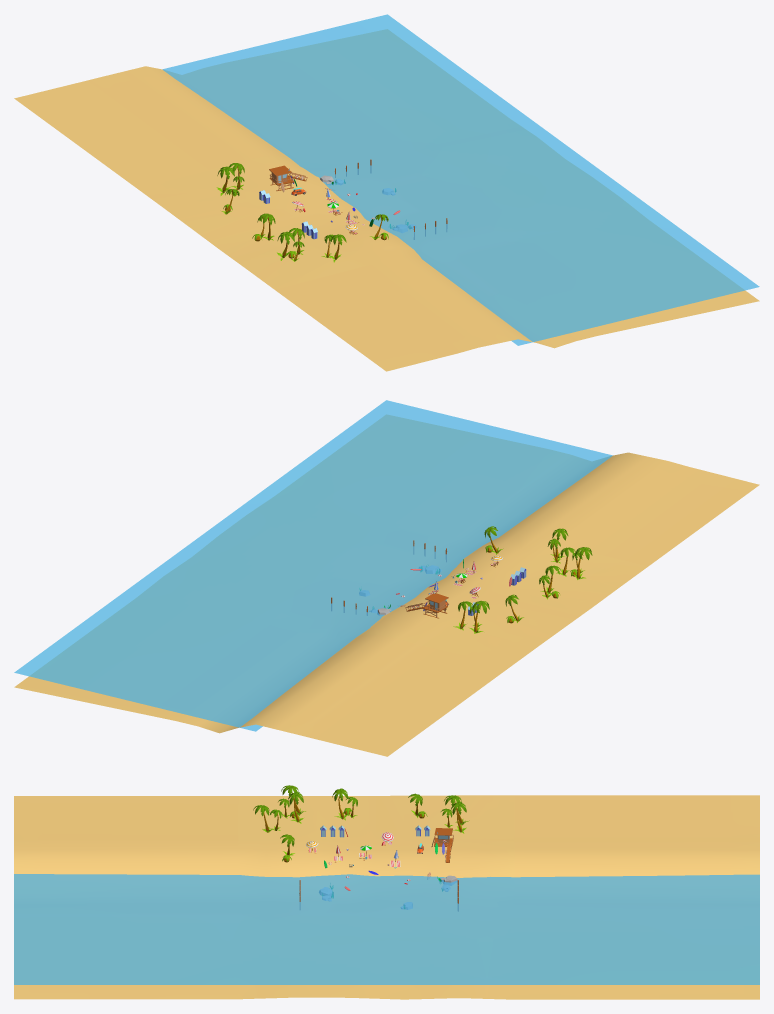
Rendered from beach_map.fbx.
The picture shows the model from 3 angles, top to bottom: view 1: azimuth 30°, elevation 25°; view 2: azimuth 150°, elevation 25°; view 3: azimuth 270°, elevation 25°; orthographic projection.
Visible parts, largest first — view 1: map_sand, map_water, beach_objectss; view 2: map_sand, map_water, beach_objectss; view 3: map_sand, map_water, beach_objectss.
Boxes of the visible parts, x1=… form: map_sand: x1=14, y1=29, x2=759, y2=371; map_water: x1=162, y1=14, x2=759, y2=345; beach_objectss: x1=216, y1=159, x2=447, y2=262; map_sand: x1=14, y1=415, x2=759, y2=756; map_water: x1=14, y1=400, x2=612, y2=731; beach_objectss: x1=331, y1=526, x2=592, y2=633; map_sand: x1=14, y1=795, x2=759, y2=999; map_water: x1=14, y1=874, x2=759, y2=984; beach_objectss: x1=253, y1=785, x2=469, y2=911.
Size of the model in its own units: 14720 by 1874 by 25414.
Materials: 2 (2 with a texture image).
